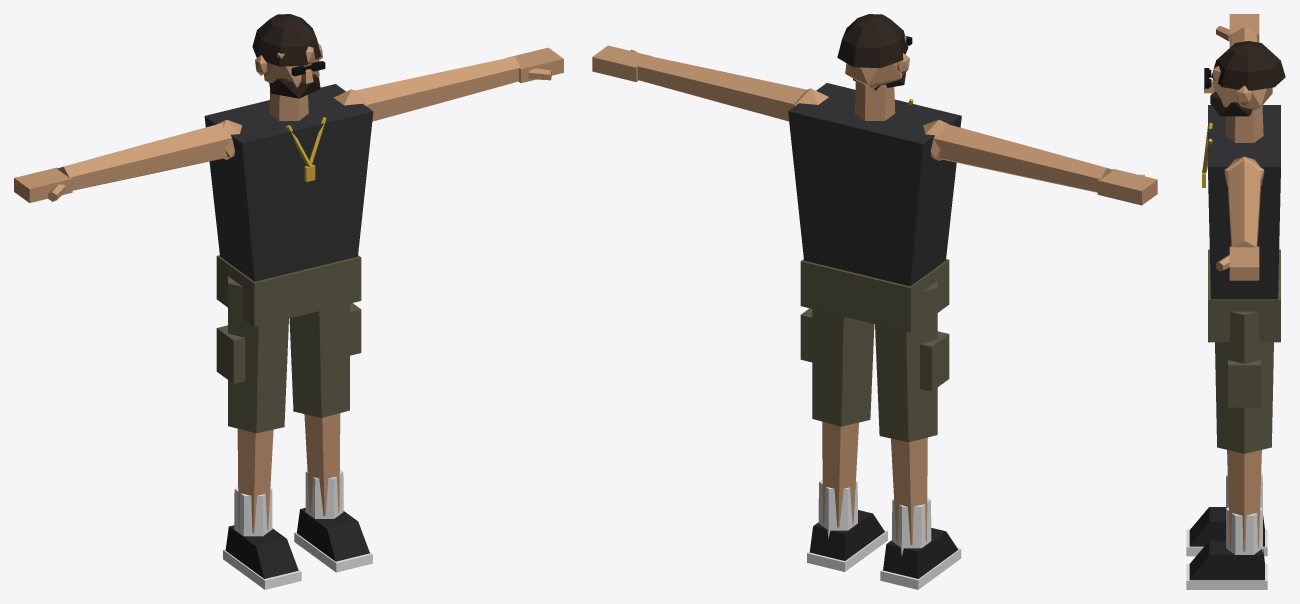
The model's file is Gang_Tank.glb.
3 views of the same model, side by side, from view 1: azimuth 30°, elevation 25°; view 2: azimuth 150°, elevation 25°; view 3: azimuth 270°, elevation 25° (orthographic). The views are drawn at different scales.
Visible parts, largest first — view 1: Gang_Tank; view 2: Gang_Tank; view 3: Gang_Tank.
Boxes of the visible parts, bbox=[...] form: Gang_Tank: bbox=[14, 14, 563, 589]; Gang_Tank: bbox=[592, 14, 1157, 589]; Gang_Tank: bbox=[1186, 14, 1285, 589].
Bounding box in the file's own units: 1.8 × 1.73 × 0.299.
